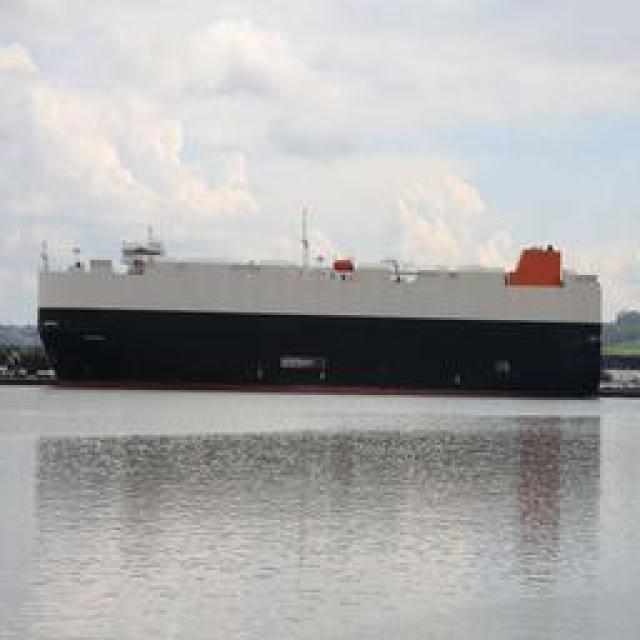CIV_Ship: (44, 241, 598, 391)
